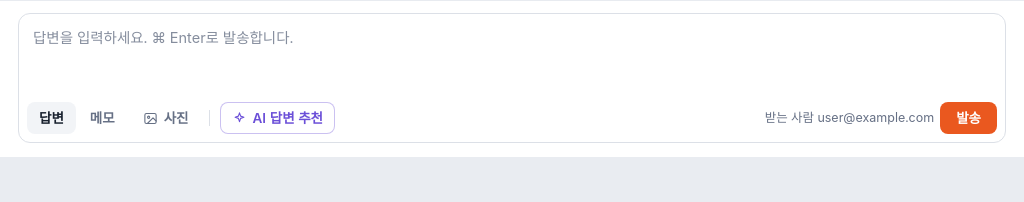
Test: ReplyComposer › reply mode › keeps the text and explains when sending fails
Type "확인 후 조치하겠습니다" into the text box named "답변 내용" at [512, 58], box 19,14 -> 1005,102
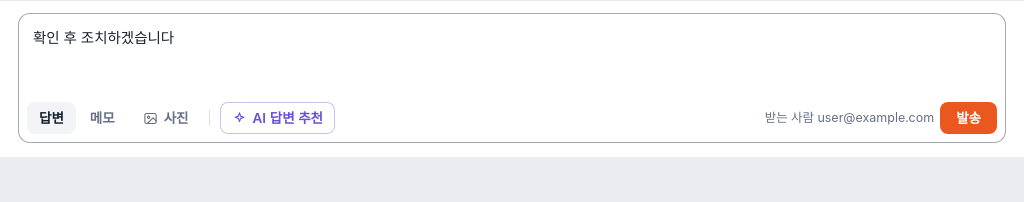
Click the button "발송" at [969, 118], box 940,102 -> 997,134
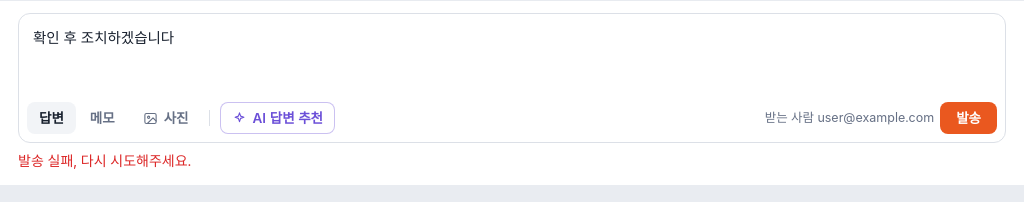
Check: the text "발송 실패, 다시 시도해주세요." is shown, box 18,152 -> 191,169
